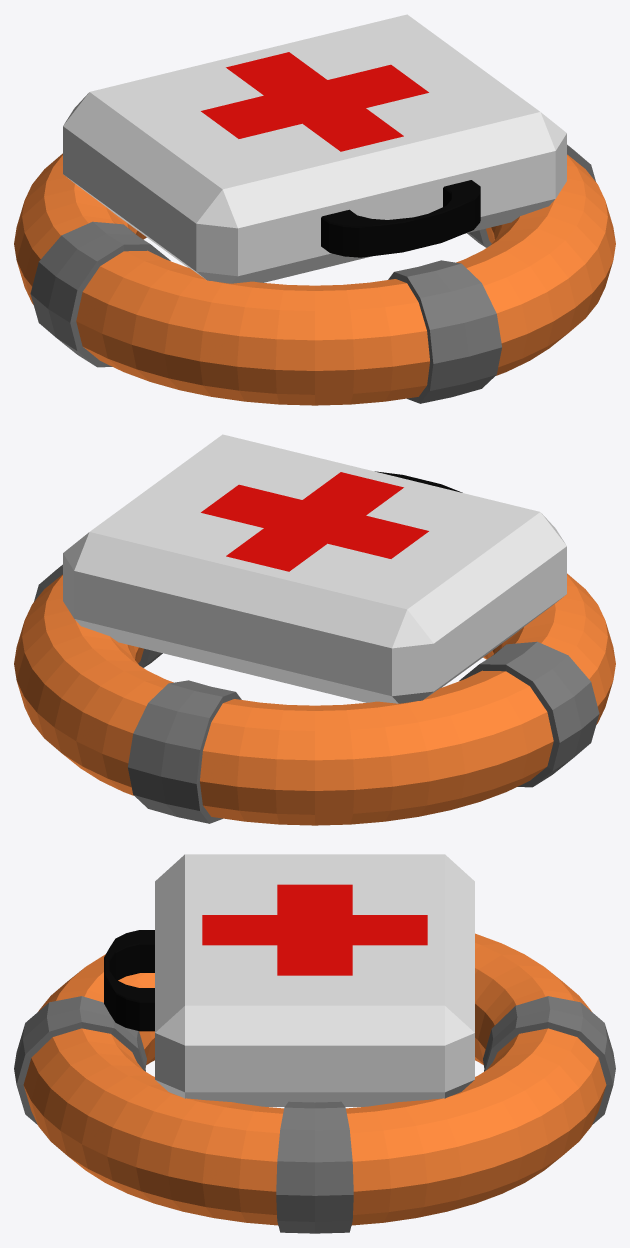
The model's file is HealthPack.fbx.
The picture shows the model from 3 angles, top to bottom: view 1: azimuth 30°, elevation 25°; view 2: azimuth 150°, elevation 25°; view 3: azimuth 270°, elevation 25°; orthographic projection. The views are drawn at different scales.
Visible parts, largest first — view 1: Torus; view 2: Torus; view 3: Torus.
Part boxes in pixels (x1,y1,x2,y2): Torus: (14,14,615,405); Torus: (14,434,615,825); Torus: (14,854,615,1233).
Size of the model in its own units: 114 by 41.34 by 114.
